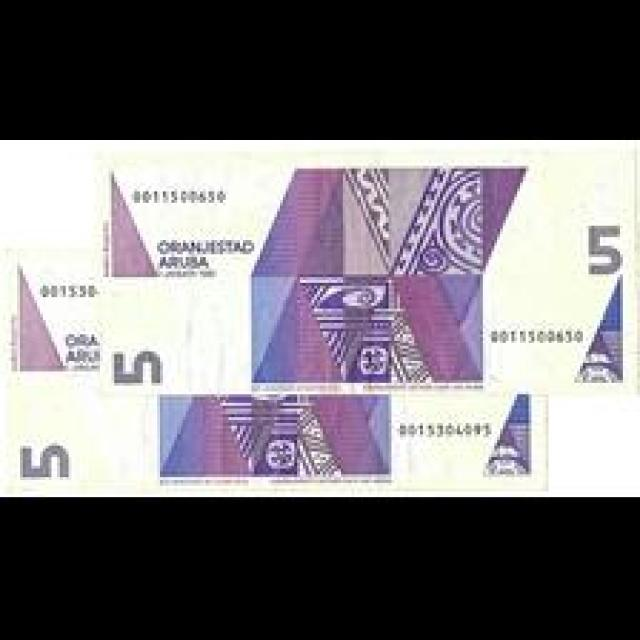banknote: (342, 164, 637, 378), (97, 169, 340, 388), (156, 388, 531, 481), (2, 275, 112, 497)
